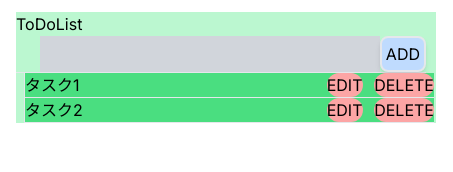
Scenario: TodoApp › addTodoがnullを返した場合にconsole.error("Todoの追加に失敗しました。")が呼ばれる
The width and height of the screenshot is (453, 172).
Type "テストタスク" into the field named "ToDo".
click(210, 54); type("テストタスク")  # box [40,36,380,72]
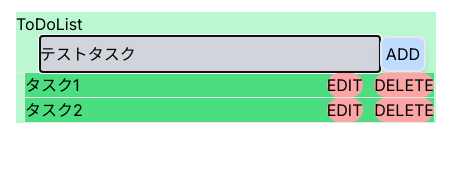
Click the button "ADD".
click(403, 54)  # box [380,36,426,72]
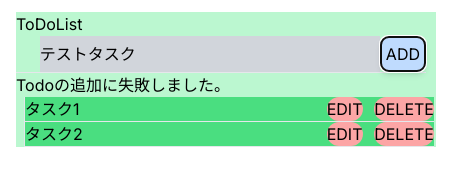
expect the heading "Todoの追加に失敗しました。" is shown: met, box [16,75,230,95]
